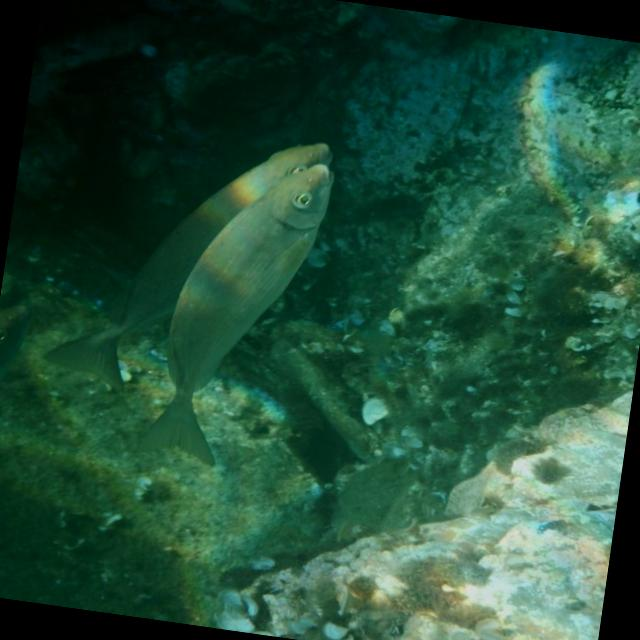Sokar Baligi: (108, 110, 376, 492)
